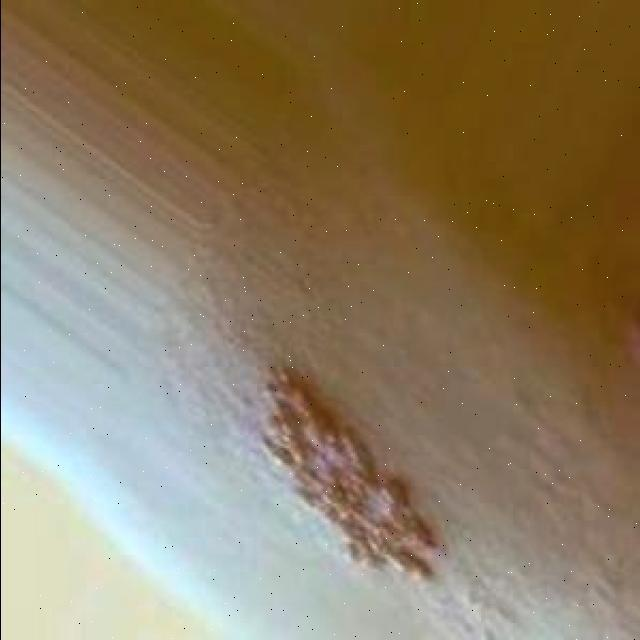Shingles: (260, 364, 440, 586)
